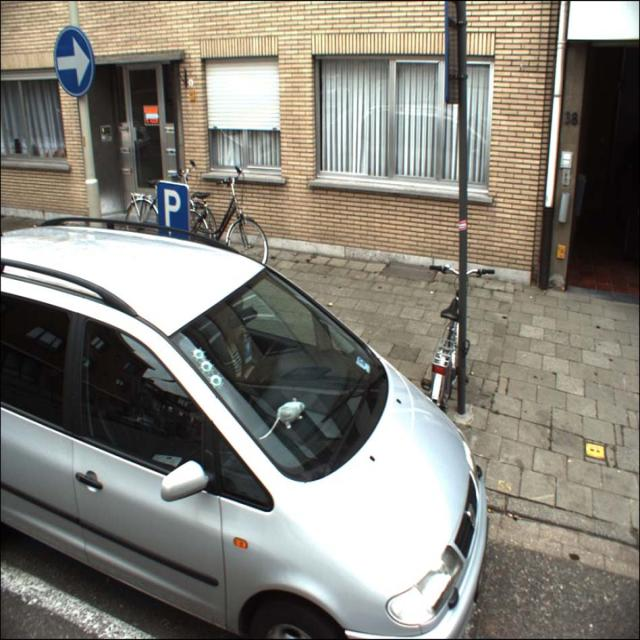park: (157, 181, 190, 247)
sag: (53, 26, 94, 97)
